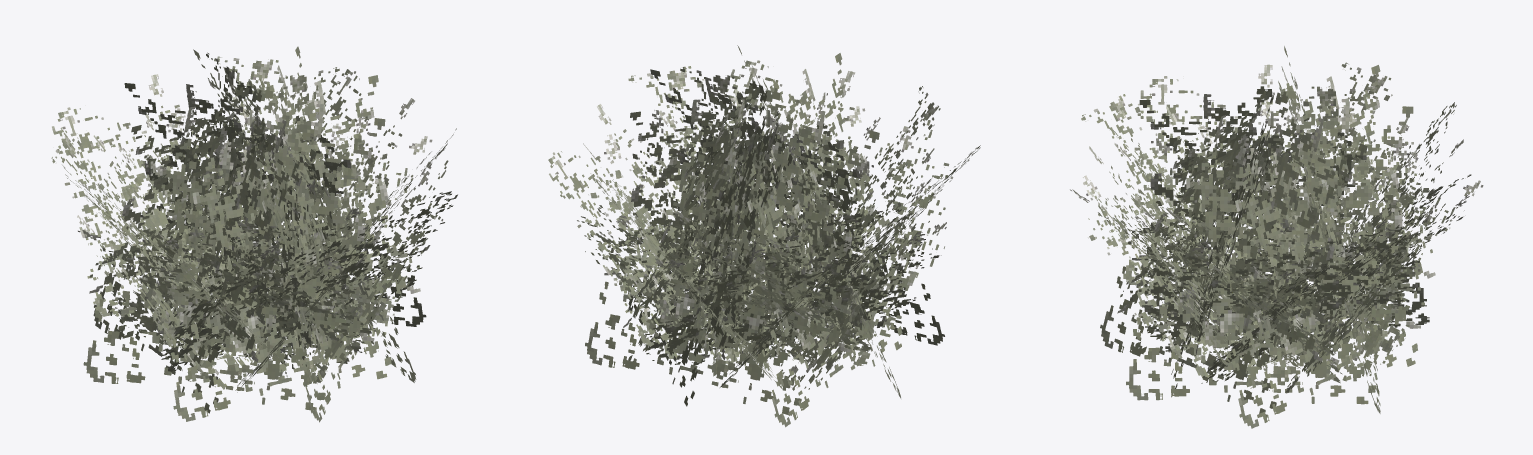
The model's file is bush_3.fbx.
3 views of the same model, side by side, from view 1: azimuth 30°, elevation 25°; view 2: azimuth 150°, elevation 25°; view 3: azimuth 270°, elevation 25° (orthographic).
Visible parts, largest first — view 1: bush_3; view 2: bush_3; view 3: bush_3.
Part boxes in pixels (x1=…): bush_3: x1=51, y1=46, x2=457, y2=422; bush_3: x1=548, y1=45, x2=980, y2=427; bush_3: x1=1070, y1=46, x2=1483, y2=428.
Bounding box in the file's own units: 316 × 316 × 200.
